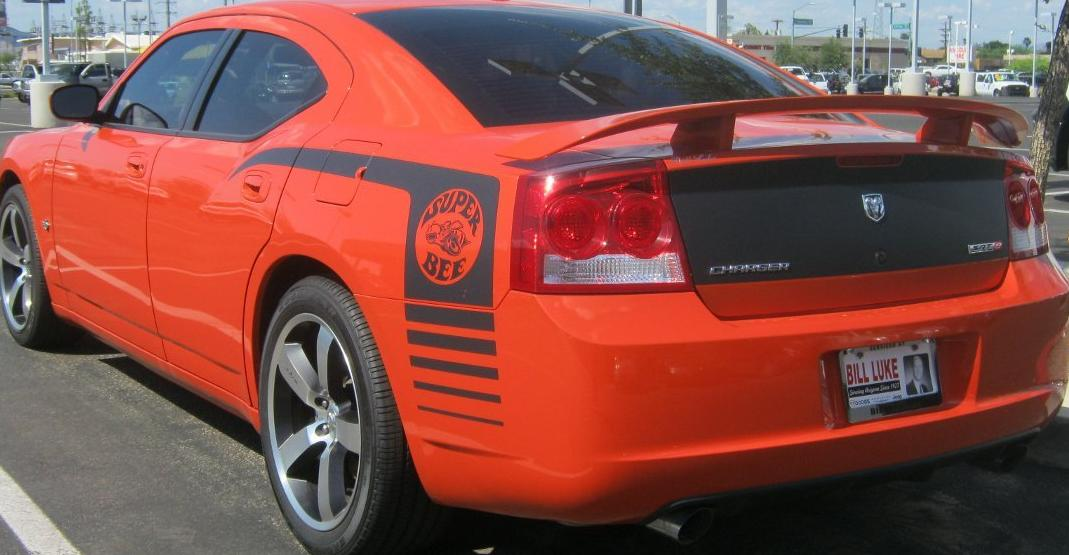back_view: (496, 126, 1045, 455)
backlight: (484, 145, 726, 320)
side_glass: (76, 17, 357, 144)
